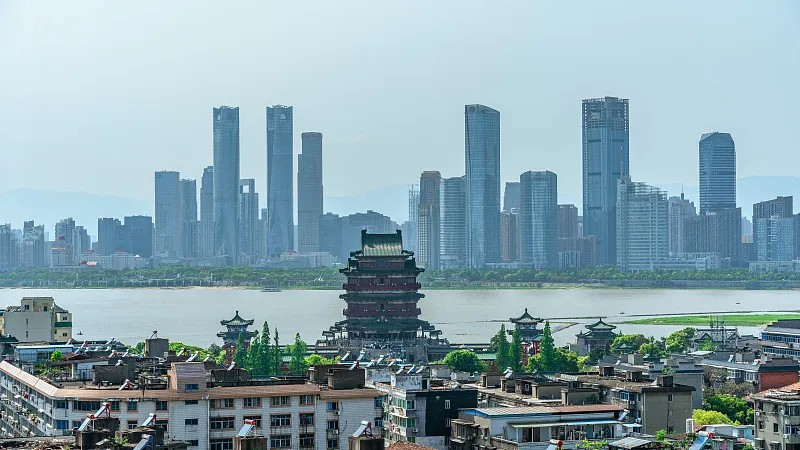Teng: (322, 228, 443, 343)
